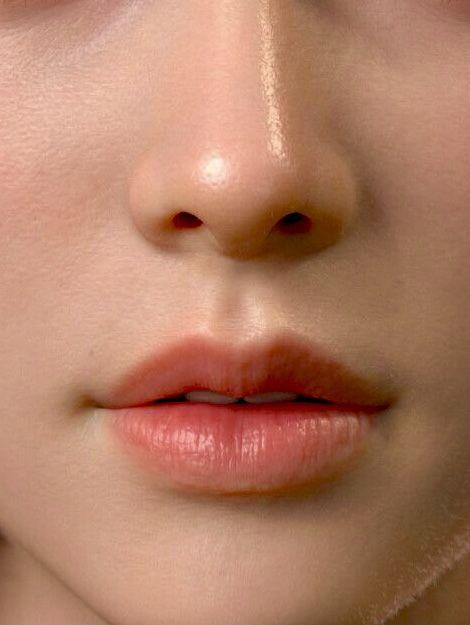Oily-Skin: (197, 131, 292, 215), (201, 275, 306, 339), (235, 7, 286, 96)
